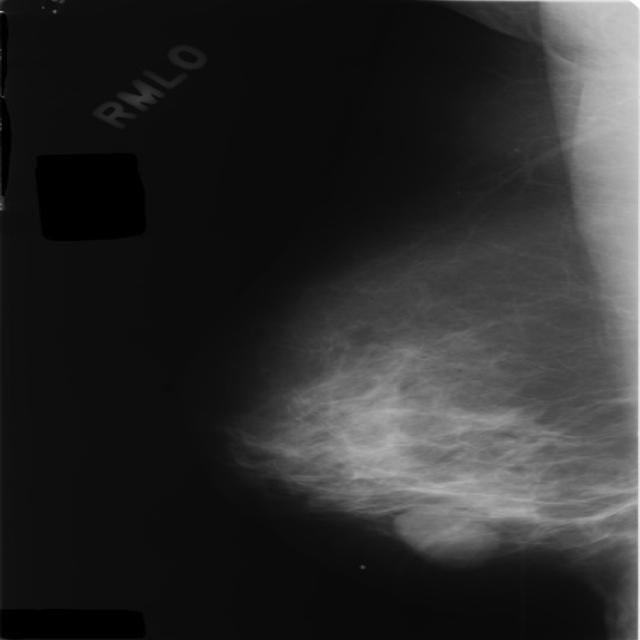tumour: (392, 504, 498, 563)
